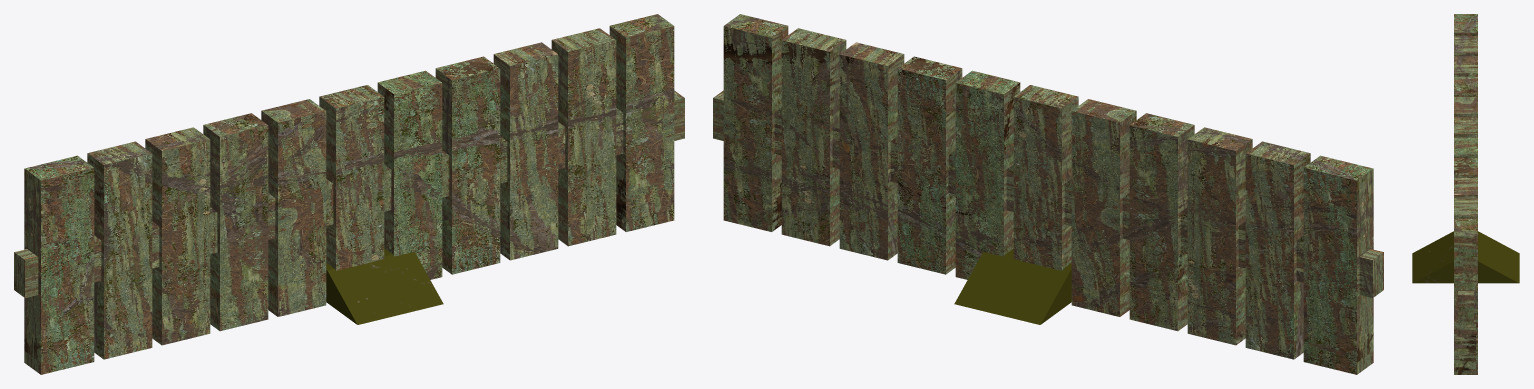
The model's file is VallasLlargaCarril.fbx.
3 views of the same model, side by side, from view 1: azimuth 30°, elevation 25°; view 2: azimuth 150°, elevation 25°; view 3: azimuth 270°, elevation 25° (orthographic). The views are drawn at different scales.
Visible parts, largest first — view 1: Cube; view 2: Cube; view 3: Cube.
Part boxes in pixels (bbox=[...]): Cube: bbox=[14, 14, 684, 374]; Cube: bbox=[713, 14, 1383, 374]; Cube: bbox=[1412, 14, 1519, 374].
Bounding box in the file's own units: 1020 × 287 × 200.
